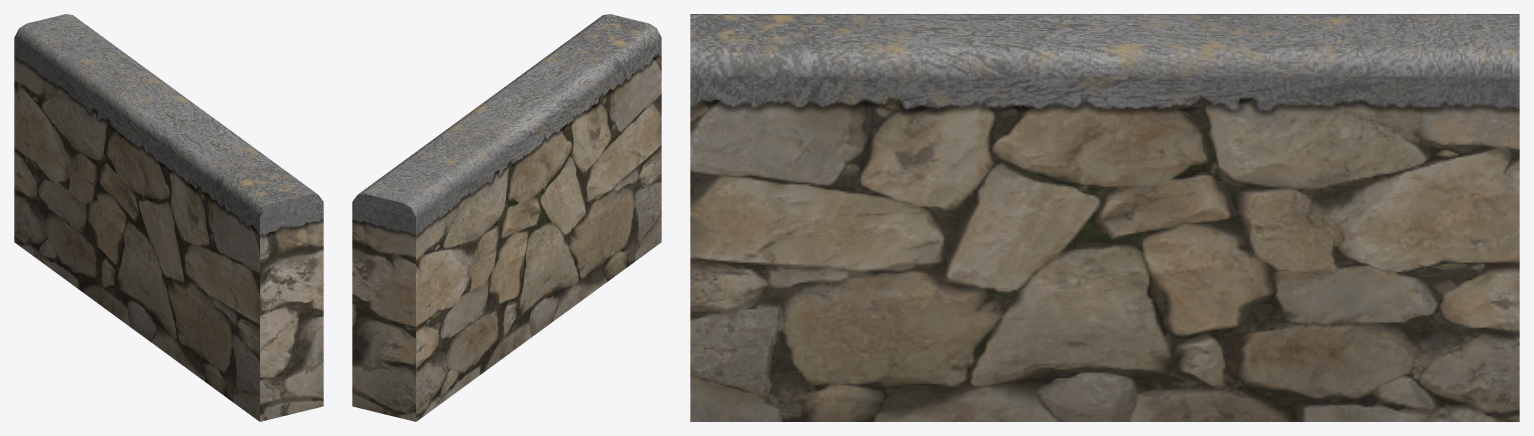
Rendered from MB_Fence_Stone_2m_01.fbx.
3 views of the same model, side by side, from view 1: azimuth 30°, elevation 25°; view 2: azimuth 150°, elevation 25°; view 3: azimuth 270°, elevation 25° (orthographic). The views are drawn at different scales.
Parts seen in each view (by area): view 1: MB_Fence_Stone_2m_01; view 2: MB_Fence_Stone_2m_01; view 3: MB_Fence_Stone_2m_01.
Part boxes in pixels (bbox=[...]): MB_Fence_Stone_2m_01: bbox=[14, 14, 323, 421]; MB_Fence_Stone_2m_01: bbox=[352, 14, 661, 421]; MB_Fence_Stone_2m_01: bbox=[690, 14, 1519, 421].
Size of the model in its own units: 30 by 96.9 by 200.
